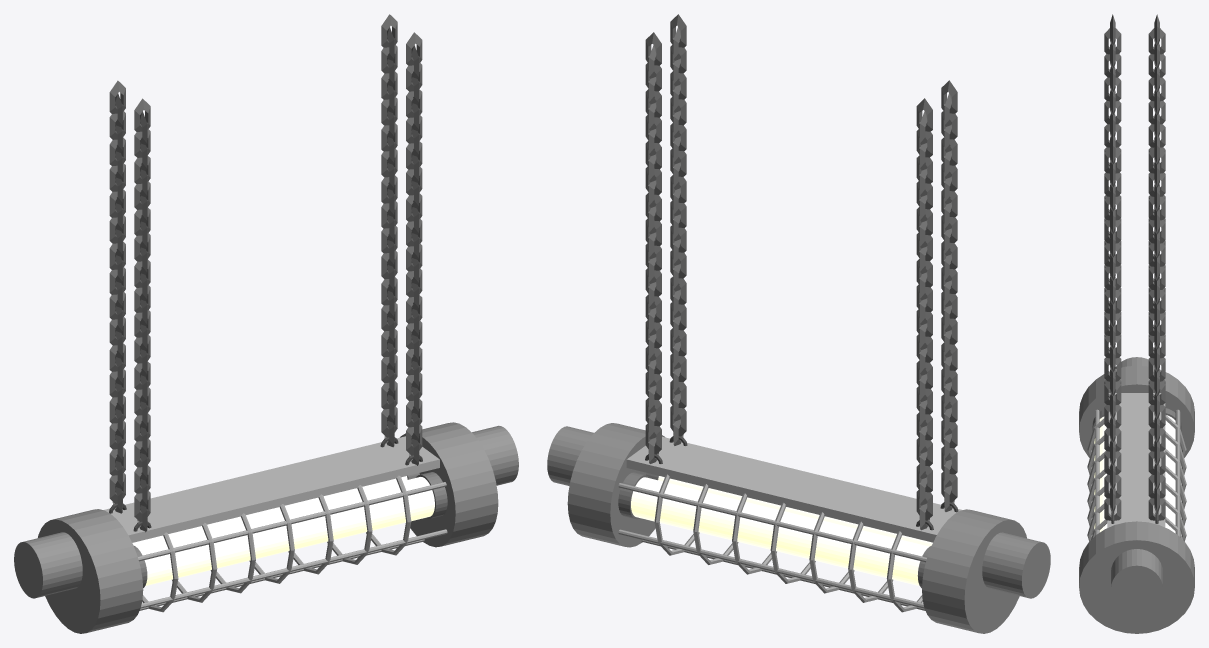
File: platform.fbx
The picture shows the model from 3 angles, left to right: view 1: azimuth 30°, elevation 25°; view 2: azimuth 150°, elevation 25°; view 3: azimuth 270°, elevation 25°; orthographic projection. The views are drawn at different scales.
Visible parts, largest first — view 1: LightTwo.001; view 2: LightTwo.001; view 3: LightTwo.001.
Part boxes in pixels (<box>): LightTwo.001: <box>14,14,518,633</box>; LightTwo.001: <box>547,14,1050,633</box>; LightTwo.001: <box>1079,14,1194,633</box>.
Bounding box in the file's own units: 12.26 × 12.94 × 2.88.
